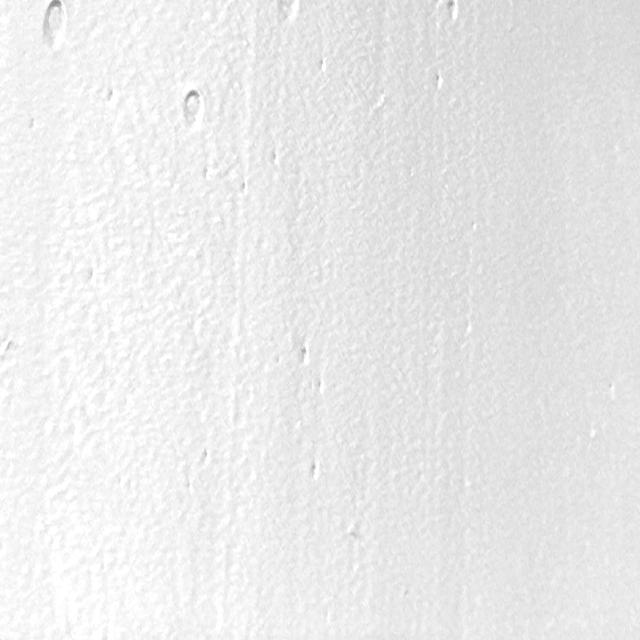pin holes: (37, 0, 72, 51), (178, 88, 207, 129), (278, 0, 304, 24), (442, 0, 463, 23), (295, 344, 312, 368), (306, 464, 323, 484), (103, 88, 119, 106), (198, 447, 212, 467), (433, 72, 445, 94), (312, 377, 326, 395), (315, 57, 327, 73), (270, 151, 280, 168)
